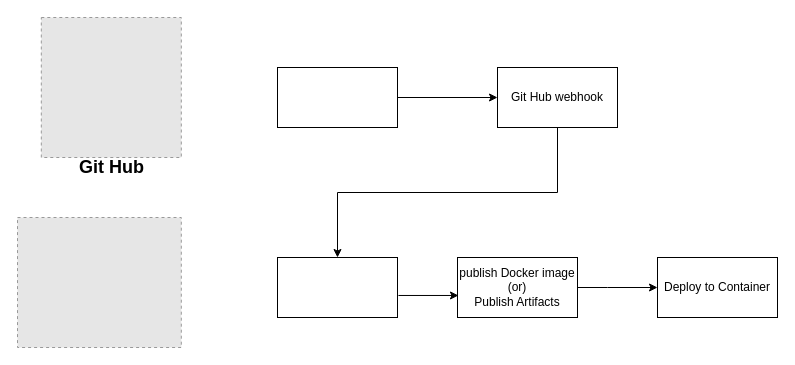
Some shapes in this 795 by 365 pixel diagram are drawn without their labels. Grey dashed boxes stand in for pictures. Each missing label, with the box of its shape:
Build Docker image (or) Maven Build: (276, 256, 398, 318)
Git push from developer: (276, 66, 398, 128)
